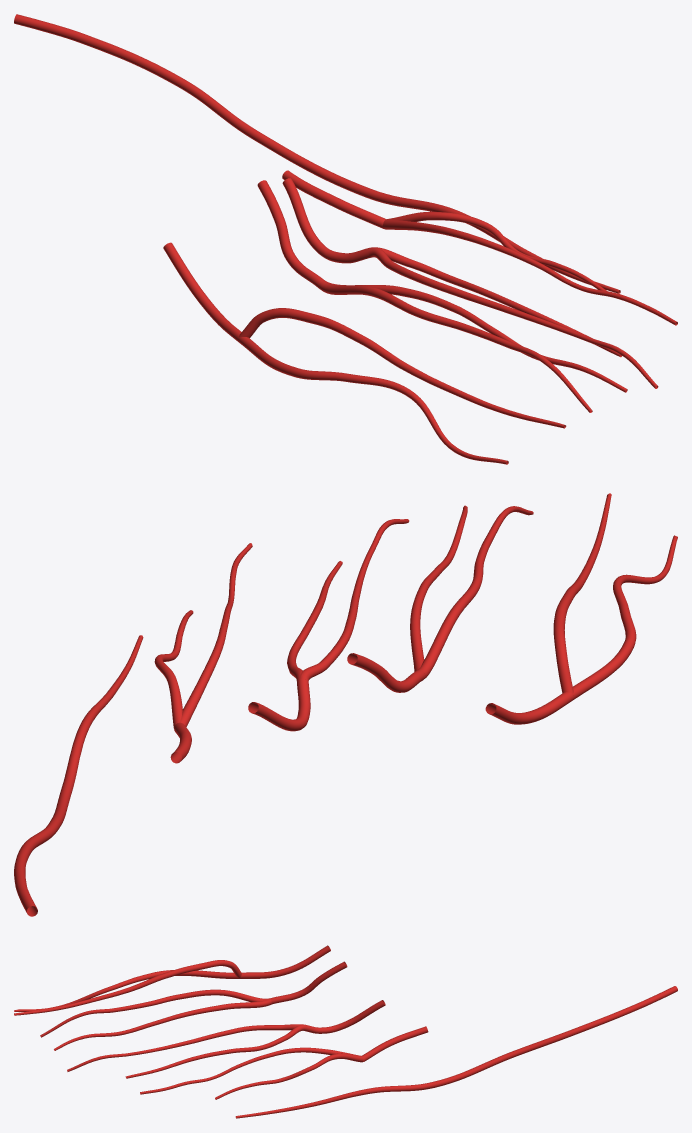
File: circulatorio-common-plantar-digital-arteries-l.glb
3 views of the same model, one above another, from view 1: azimuth 30°, elevation 25°; view 2: azimuth 150°, elevation 25°; view 3: azimuth 270°, elevation 25° (orthographic). The views are drawn at different scales.
Parts seen in each view (by area): view 1: Proper plantar digital arteries.l, Common plantar digital arteries.l; view 2: Proper plantar digital arteries.l, Common plantar digital arteries.l; view 3: Proper plantar digital arteries.l, Common plantar digital arteries.l.
Part boxes in pixels (x1=…): Proper plantar digital arteries.l: x1=14, y1=14, x2=677, y2=464; Common plantar digital arteries.l: x1=163, y1=170, x2=386, y2=341; Proper plantar digital arteries.l: x1=14, y1=493, x2=677, y2=916; Common plantar digital arteries.l: x1=170, y1=653, x2=573, y2=763; Proper plantar digital arteries.l: x1=14, y1=960, x2=677, y2=1118; Common plantar digital arteries.l: x1=240, y1=945, x2=428, y2=1061.
Bounding box in the file's own units: 0.0603 × 0.0177 × 0.1436.
